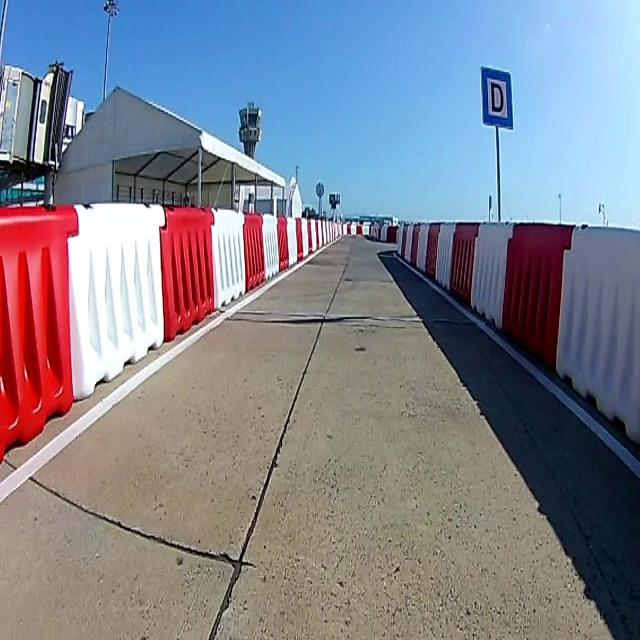durak: (481, 66, 511, 130)
